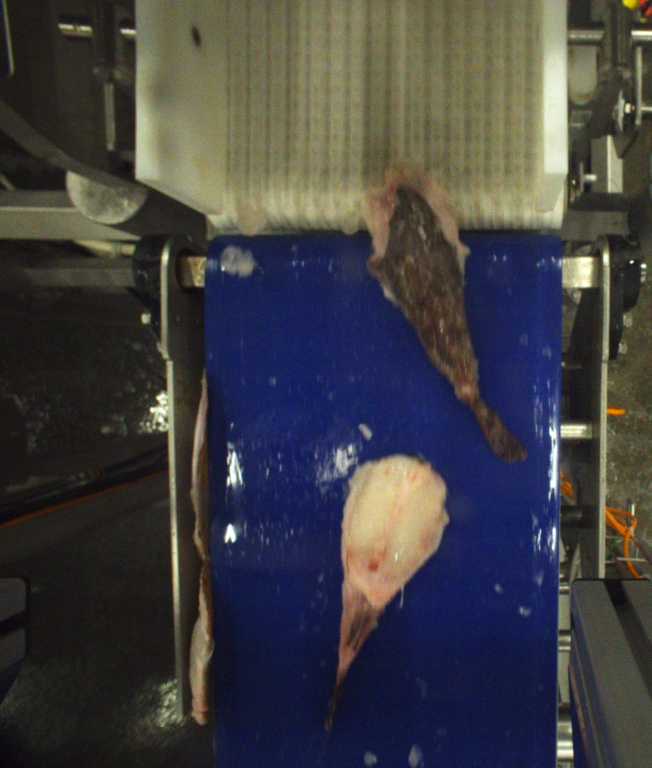ANF: (366, 160, 525, 461)
